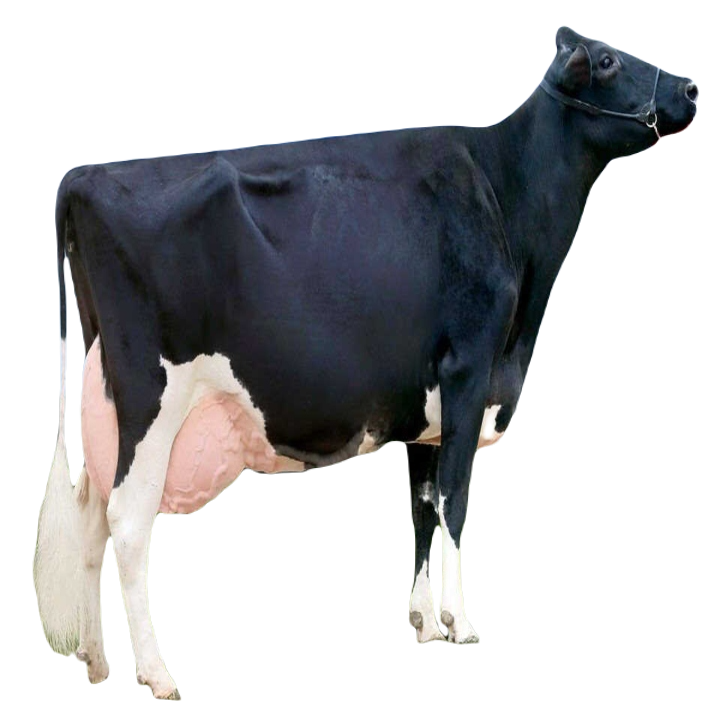Cow: (33, 27, 696, 702)
